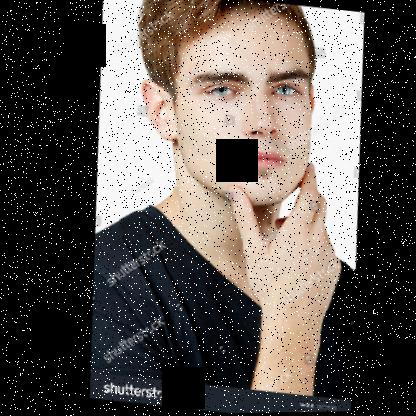Male: (119, 0, 329, 217)
